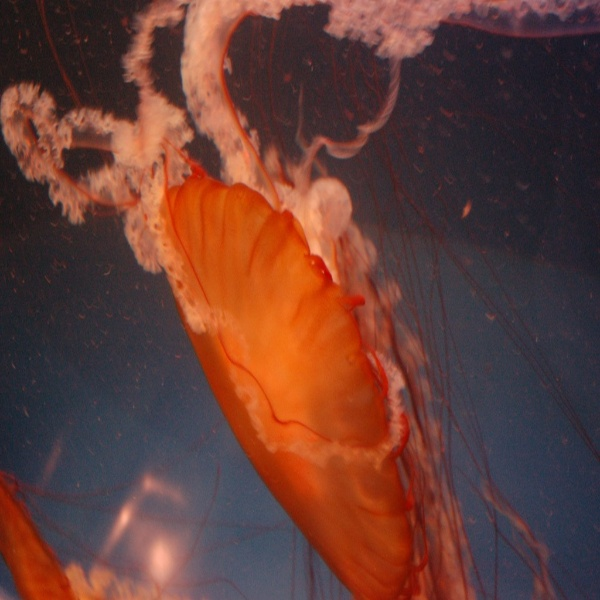Jellyfish: (0, 0, 599, 598)
